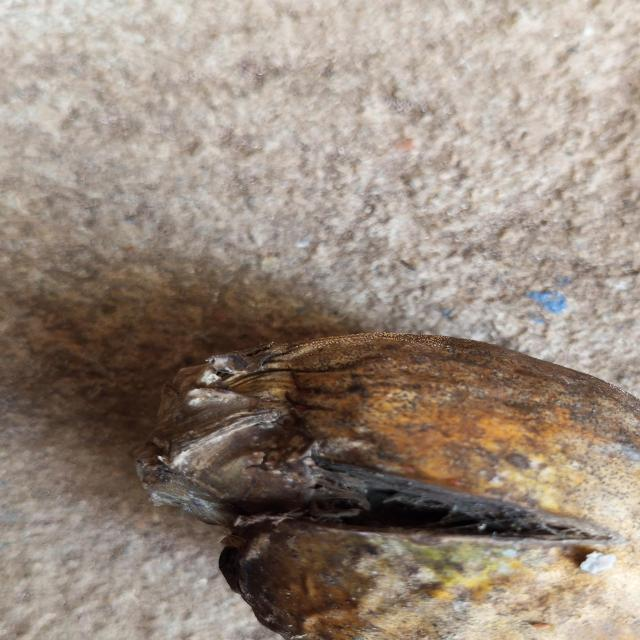damaged: (136, 333, 640, 640)
